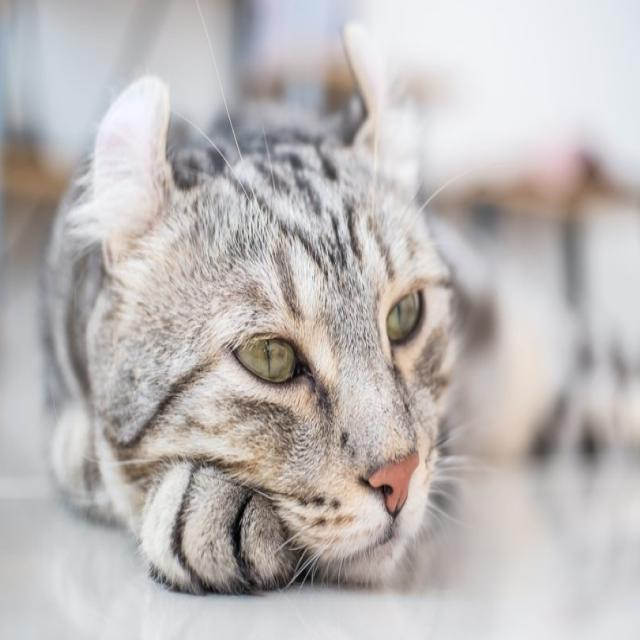American Curl: (32, 12, 468, 605)
